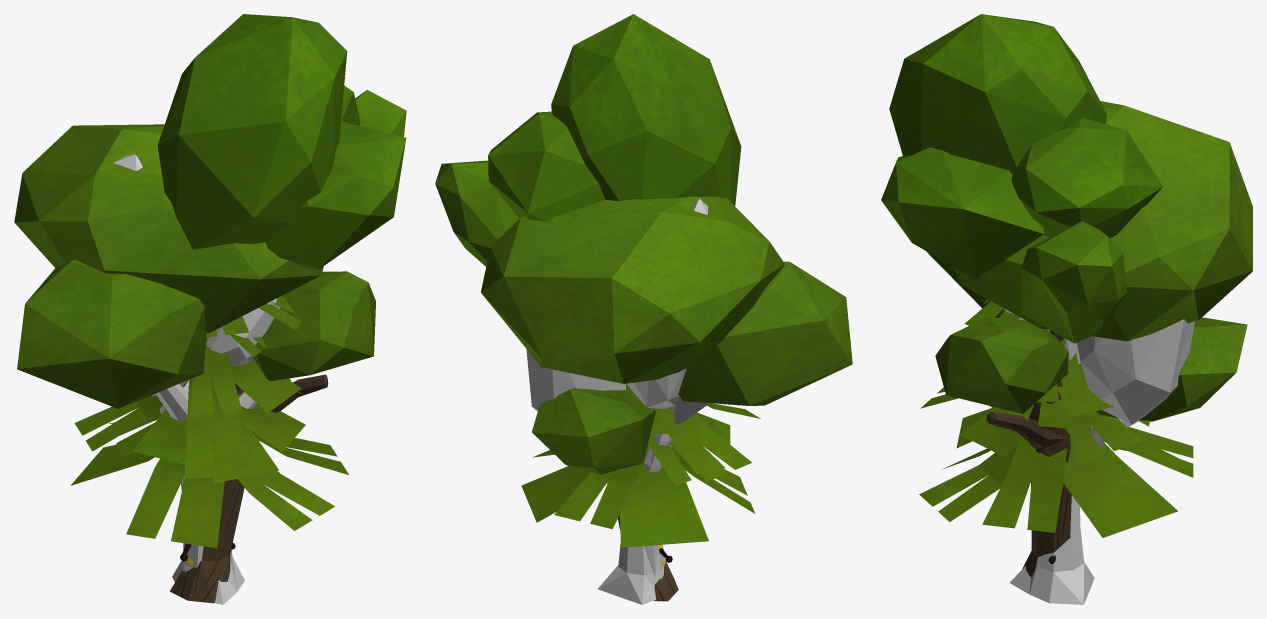
The model's file is Tree2.FBX.
3 renders of one model, left to right at view 1: azimuth 30°, elevation 25°; view 2: azimuth 150°, elevation 25°; view 3: azimuth 270°, elevation 25°, orthographic. The views are drawn at different scales.
Parts seen in each view (by area): view 1: Tree2, Tree4, Tree1, Tree3; view 2: Tree2, Tree4, Tree1, Tree3; view 3: Tree4, Tree2, Tree1, Tree3.
Boxes of the visible parts, x1,y1,x2,y2 form: Tree2: (14,124,375,604); Tree4: (157,14,406,603); Tree1: (70,296,348,548); Tree3: (114,154,280,563); Tree2: (481,196,852,604); Tree4: (435,14,741,601); Tree1: (521,383,760,547); Tree3: (526,198,709,576); Tree4: (881,14,1162,577); Tree2: (927,101,1252,604); Tree1: (919,299,1193,537); Tree3: (1004,308,1194,448).
Size of the model in its own units: 1141 by 862 by 1529.
